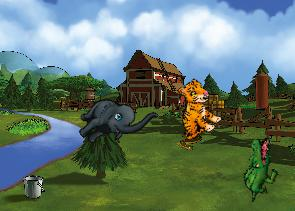crocodile: (234, 135, 284, 202)
elephant: (70, 76, 159, 165)
tiger: (161, 75, 228, 145)
